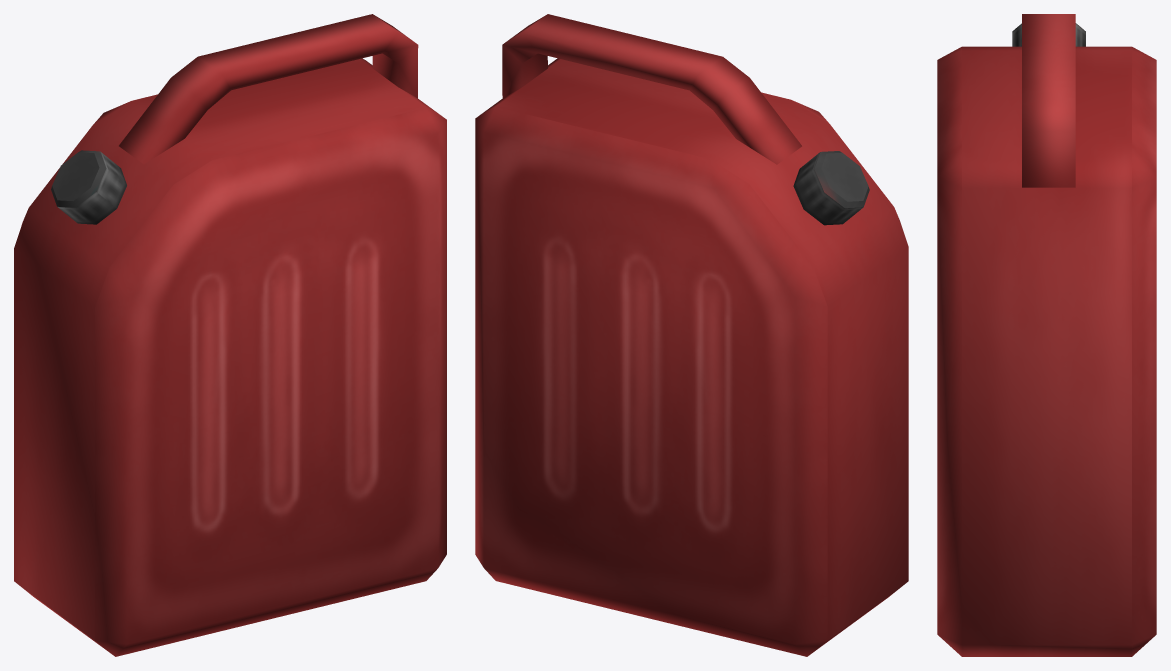
File: TianZhuJiaoTang_01_qiyoutong_01.FBX
The picture shows the model from 3 angles, left to right: view 1: azimuth 30°, elevation 25°; view 2: azimuth 150°, elevation 25°; view 3: azimuth 270°, elevation 25°; orthographic projection. The views are drawn at different scales.
Parts seen in each view (by area): view 1: TianZhuJiaoTang_01_qiyoutong_01; view 2: TianZhuJiaoTang_01_qiyoutong_01; view 3: TianZhuJiaoTang_01_qiyoutong_01.
Boxes of the visible parts, bbox=[...] form: TianZhuJiaoTang_01_qiyoutong_01: bbox=[14, 14, 446, 656]; TianZhuJiaoTang_01_qiyoutong_01: bbox=[475, 14, 908, 656]; TianZhuJiaoTang_01_qiyoutong_01: bbox=[937, 14, 1156, 656].
Size of the model in its own units: 227 by 325 by 117.
